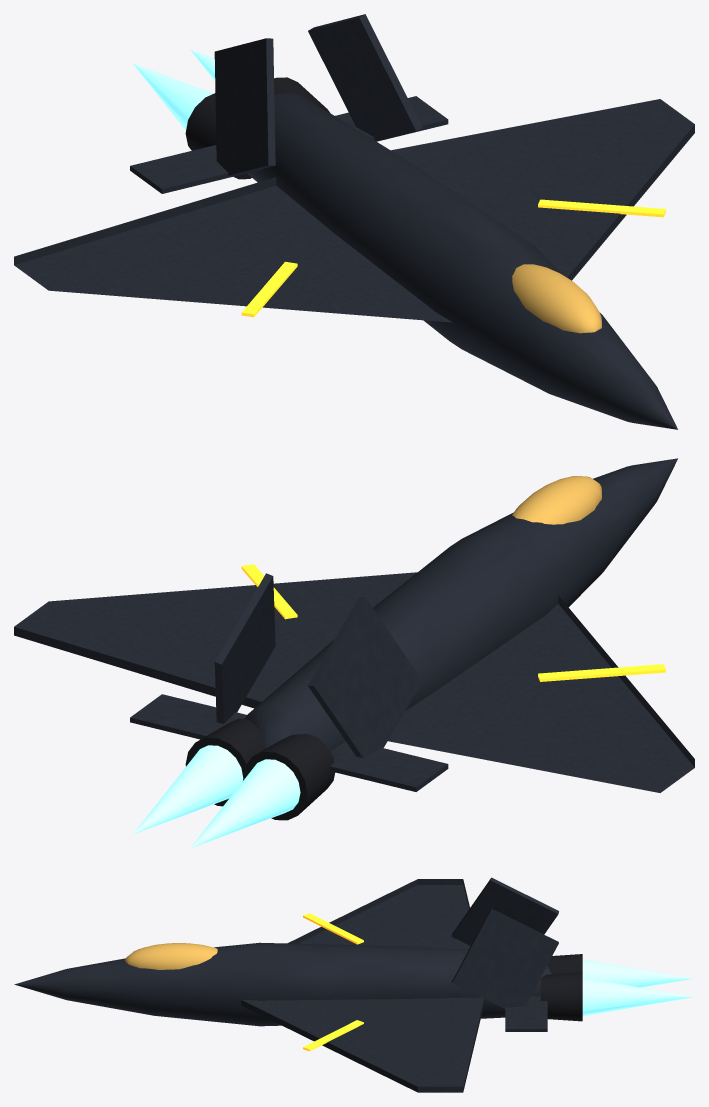
Rendered from sieu-phan-luc.glb.
3 views of the same model, one above another, from view 1: azimuth 30°, elevation 25°; view 2: azimuth 150°, elevation 25°; view 3: azimuth 270°, elevation 25° (orthographic). The views are drawn at different scales.
Visible parts, largest first — view 1: hull, flame; view 2: hull, flame (×2); view 3: hull, flame (×2).
Part boxes in pixels (box(x1,y1,x2,y2)): hull: box(14, 14, 694, 429); flame: box(133, 63, 213, 130); hull: box(14, 458, 694, 820); flame (×2): box(133, 745, 300, 848); hull: box(14, 877, 582, 1092); flame (×2): box(582, 959, 694, 1015).
Size of the model in its own units: 14 by 4.06 by 19.4.
5 materials, 1 textured.
